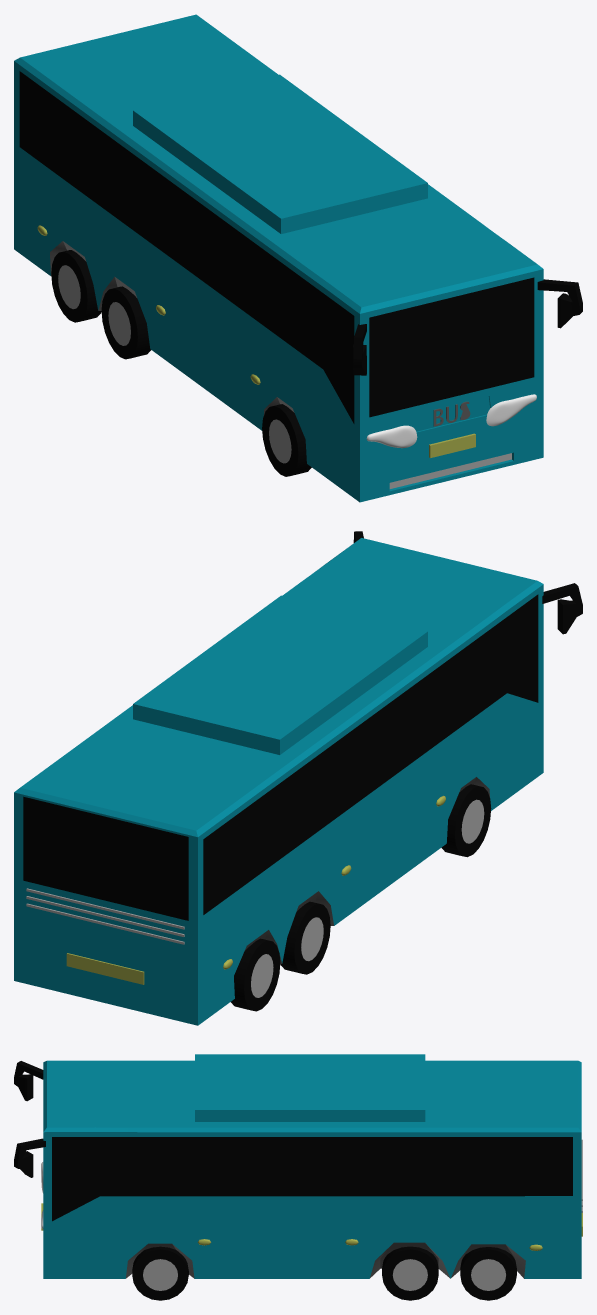
The model's file is Bus_01.fbx.
The picture shows the model from 3 angles, top to bottom: view 1: azimuth 30°, elevation 25°; view 2: azimuth 150°, elevation 25°; view 3: azimuth 270°, elevation 25°; orthographic projection. The views are drawn at different scales.
Visible parts, largest first — view 1: Bus_01, polySurface34, polySurface36, polySurface32, pCube129, pCube130, pCube134; view 2: Bus_01, polySurface36, polySurface34, polySurface32, pCube129, pCube135; view 3: Bus_01, polySurface33, polySurface35, polySurface31, pCube129.
Boxes of the visible parts, x1,y1,x2,y2 form: Bus_01: [14, 14, 543, 502]; polySurface34: [101, 286, 150, 359]; polySurface36: [51, 250, 101, 322]; polySurface32: [262, 404, 311, 476]; pCube129: [353, 279, 582, 375]; pCube130: [366, 394, 536, 448]; pCube134: [429, 433, 475, 457]; Bus_01: [14, 538, 543, 1025]; polySurface36: [231, 938, 280, 1011]; polySurface34: [280, 901, 330, 974]; polySurface32: [441, 784, 491, 857]; pCube129: [353, 531, 582, 634]; pCube135: [66, 953, 144, 984]; Bus_01: [43, 1054, 581, 1278]; polySurface33: [382, 1246, 438, 1300]; polySurface35: [460, 1247, 516, 1300]; polySurface31: [132, 1246, 188, 1300]; pCube129: [14, 1061, 45, 1177].
Size of the model in its own units: 93.54 by 91.11 by 258.
